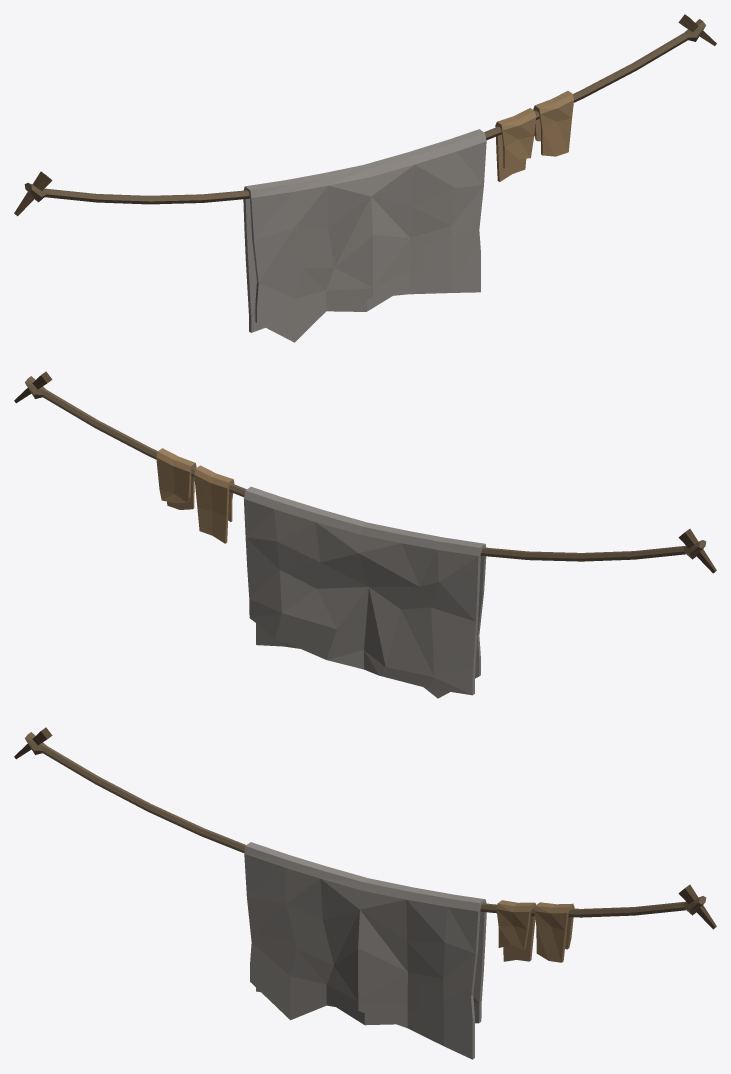
The model's file is SM_Prop_Washingline_02.gltf.
3 views of the same model, one above another, from view 1: azimuth 30°, elevation 25°; view 2: azimuth 150°, elevation 25°; view 3: azimuth 330°, elevation 25° (orthographic).
Visible parts, largest first — view 1: SM_Prop_Washingline_02; view 2: SM_Prop_Washingline_02; view 3: SM_Prop_Washingline_02.
Part boxes in pixels (<box>): SM_Prop_Washingline_02: <box>14,14,716,342</box>; SM_Prop_Washingline_02: <box>14,371,716,698</box>; SM_Prop_Washingline_02: <box>14,727,716,1059</box>.
Bounding box in the file's own units: 5.55 × 1.73 × 0.2297.
1 material, 1 textured.
